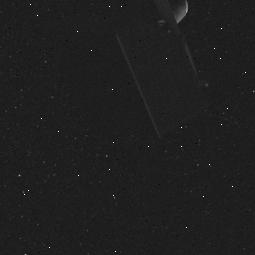cheops: (124, 0, 216, 135)
